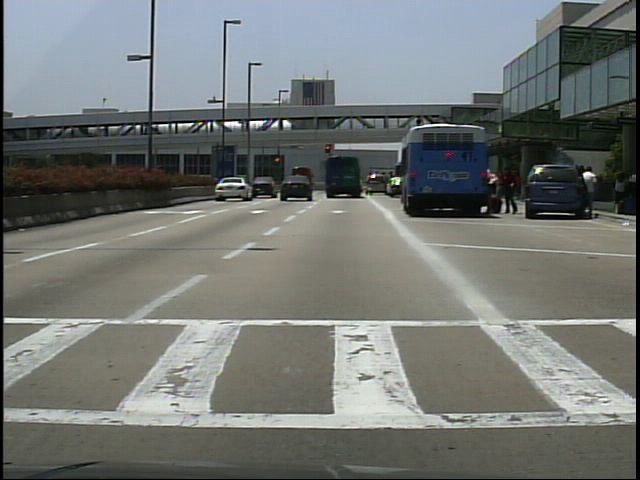person: (483, 163, 501, 216), (502, 164, 520, 214), (582, 165, 600, 215)
